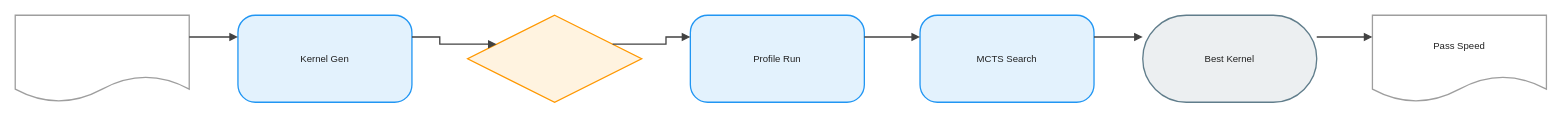
The diagram is 1563 pixels wide and 118 high, and some of its shapes have lost their labels. Each missing label, with the centre of its shape:
"Compile Test" belongs at pixel 554 58.
"CUDA Tasks" belongs at pixel 101 58.
